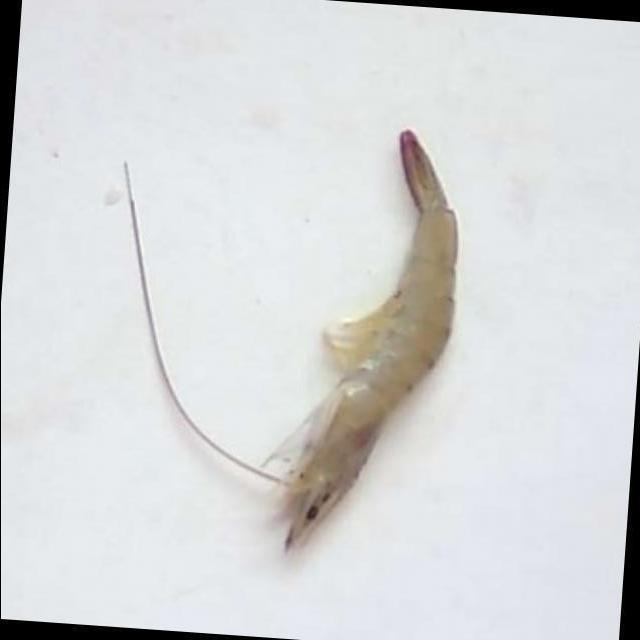shrimp: (285, 130, 457, 549)
